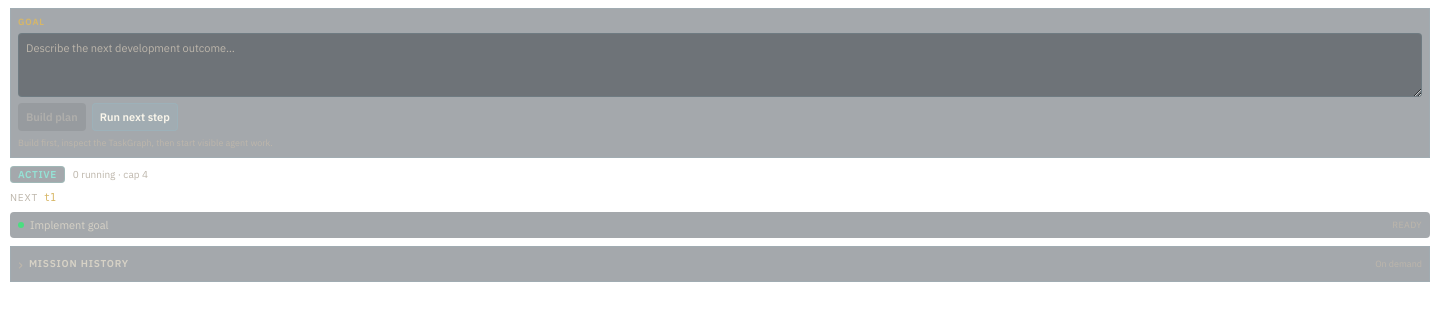
OrchestratorPanel › builds a plan from a goal and explicitly starts the next visible step
Expected: the text "Implement goal" is shown, left=30, top=218, right=108, bottom=232
Type "Add a product-accessible mission flow" into the text box labelled "Goal".
click(720, 65); type("Add a product-accessible mission flow")  # box left=18, top=33, right=1422, bottom=97
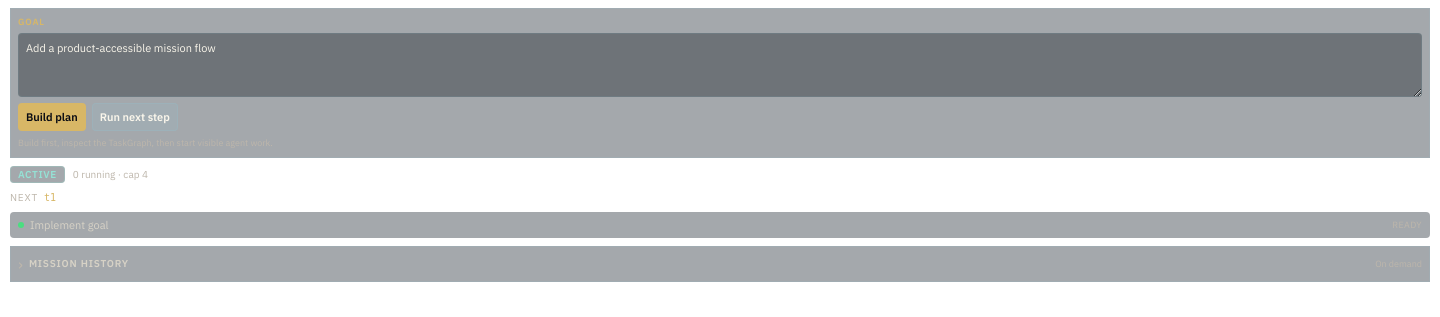
Click the button "Build plan".
click(52, 117)  # box left=18, top=103, right=86, bottom=131
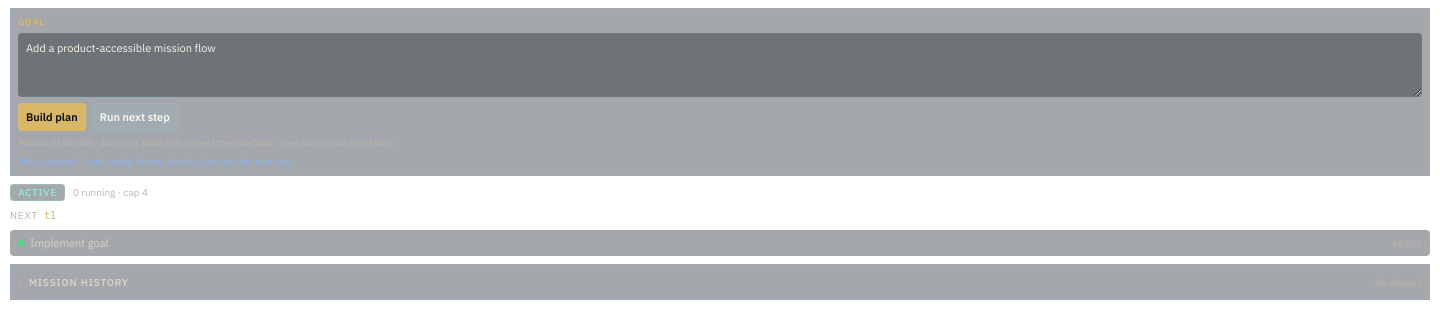
Expected: the text "Plan accepted · 1 task ready. Review it below, then run the next step." is shown, left=18, top=156, right=294, bottom=167
Click the button "Run next step".
click(135, 117)  # box left=92, top=103, right=178, bottom=131
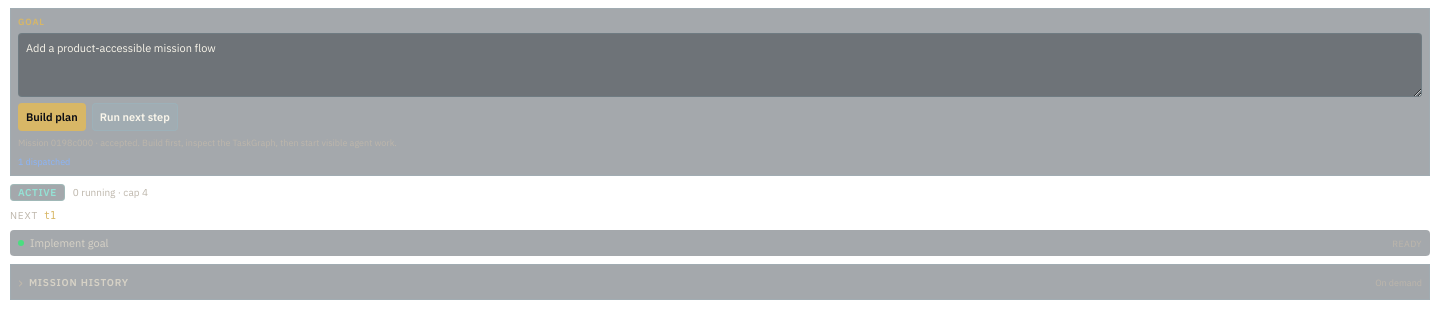
Expected: the text "1 dispatched" is shown, left=18, top=156, right=70, bottom=167
